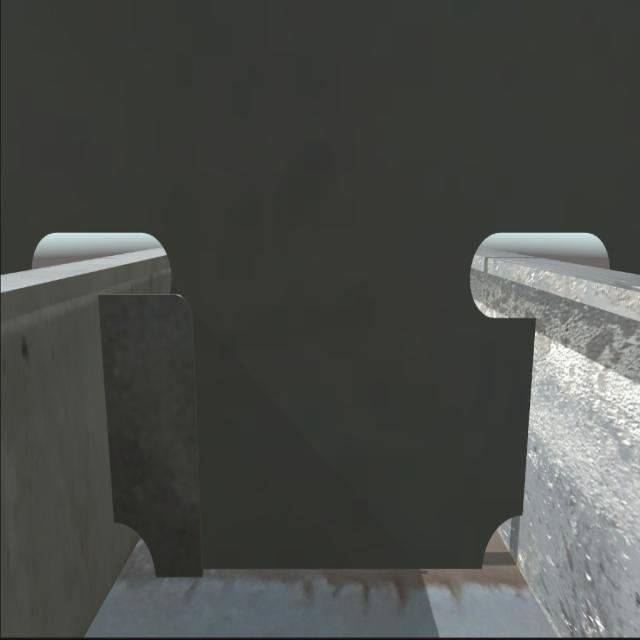fillet_hole: (111, 519, 163, 578), (478, 517, 524, 567)
fillet_yong_jeop_jang: (153, 561, 495, 583)
longi_yong_jeop_jang: (96, 292, 124, 534), (522, 312, 540, 517)
plate_CP05: (101, 295, 203, 582)
